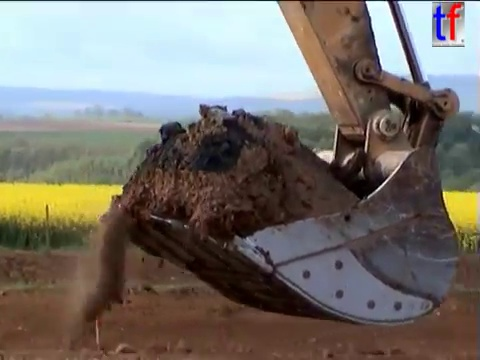excavator: (107, 1, 467, 331)
